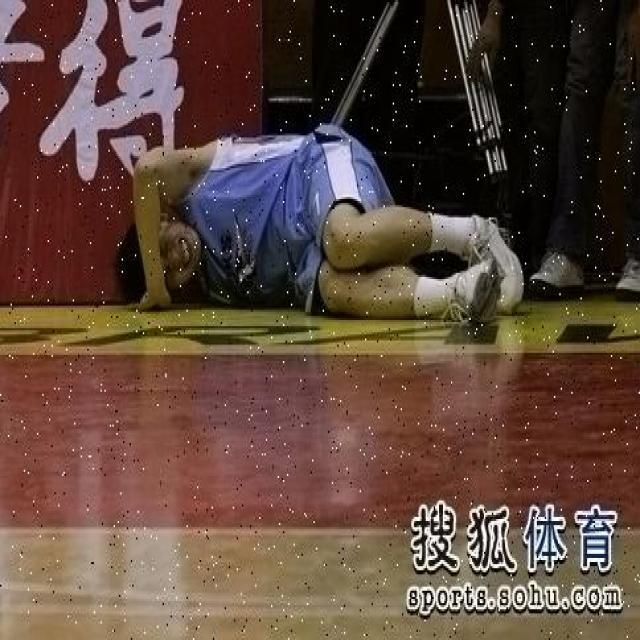fall: (124, 127, 497, 332)
